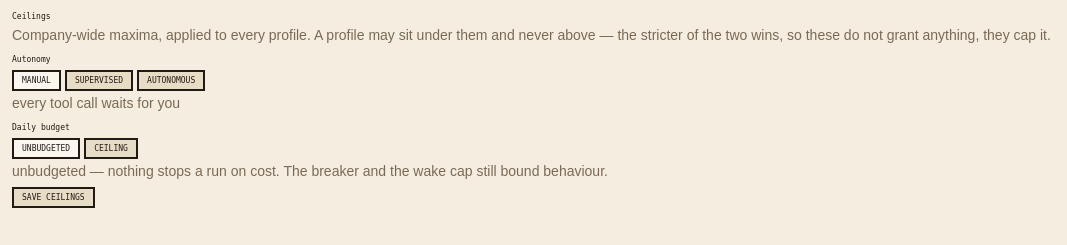
Test: a bridge that rejects › reports a save that never landed
Click the button "SUPERVISED" at {"x": 99, "y": 80}, box x1=65 y1=70 x2=133 y2=91
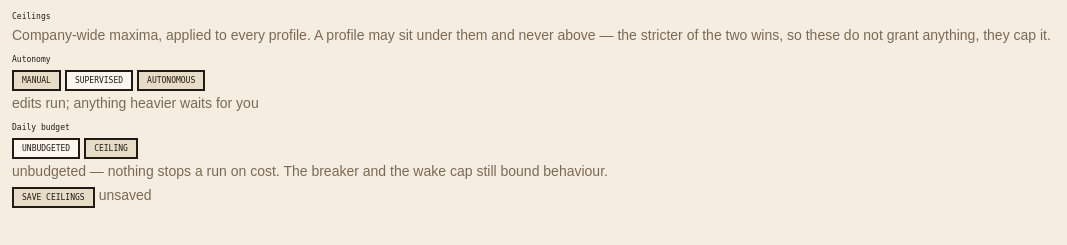
Click the button "SAVE CEILINGS" at {"x": 53, "y": 198}, box x1=12 y1=187 x2=95 y2=208
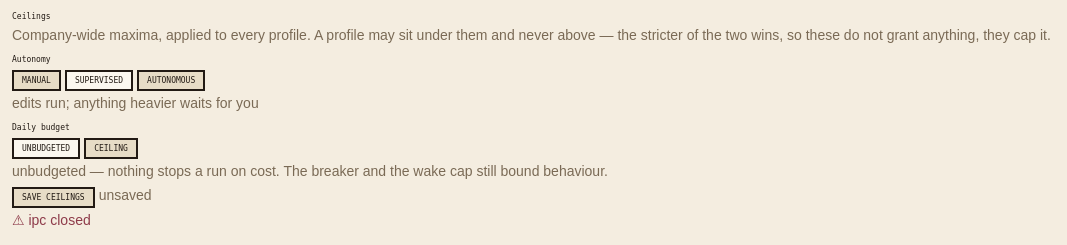
Check: the text "ipc closed" is shown, box x1=28 y1=212 x2=91 y2=228
